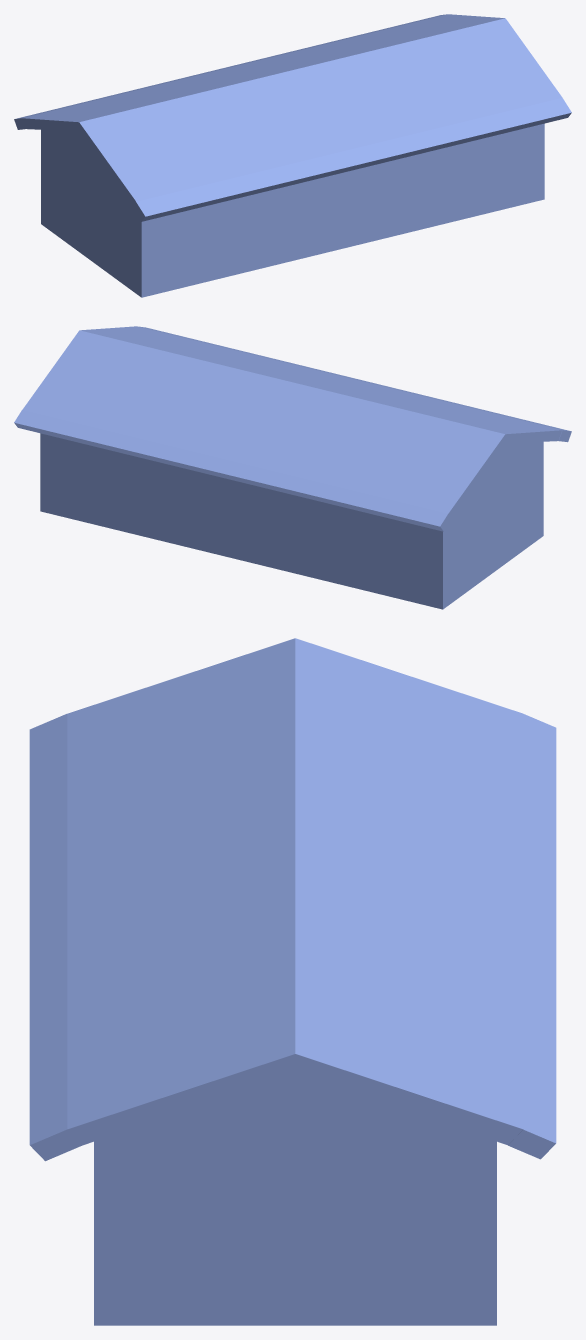
The model's file is HM2Nav.glb.
The picture shows the model from 3 angles, top to bottom: view 1: azimuth 30°, elevation 25°; view 2: azimuth 150°, elevation 25°; view 3: azimuth 270°, elevation 25°; orthographic projection. The views are drawn at different scales.
Parts seen in each view (by area): view 1: Cube.002; view 2: Cube.002; view 3: Cube.002.
Boxes of the visible parts, <box> form: Cube.002: <box>14,14,571,297</box>; Cube.002: <box>14,326,571,609</box>; Cube.002: <box>29,638,556,1325</box>.
Bounding box in the file's own units: 15.89 × 5.04 × 8.5.
